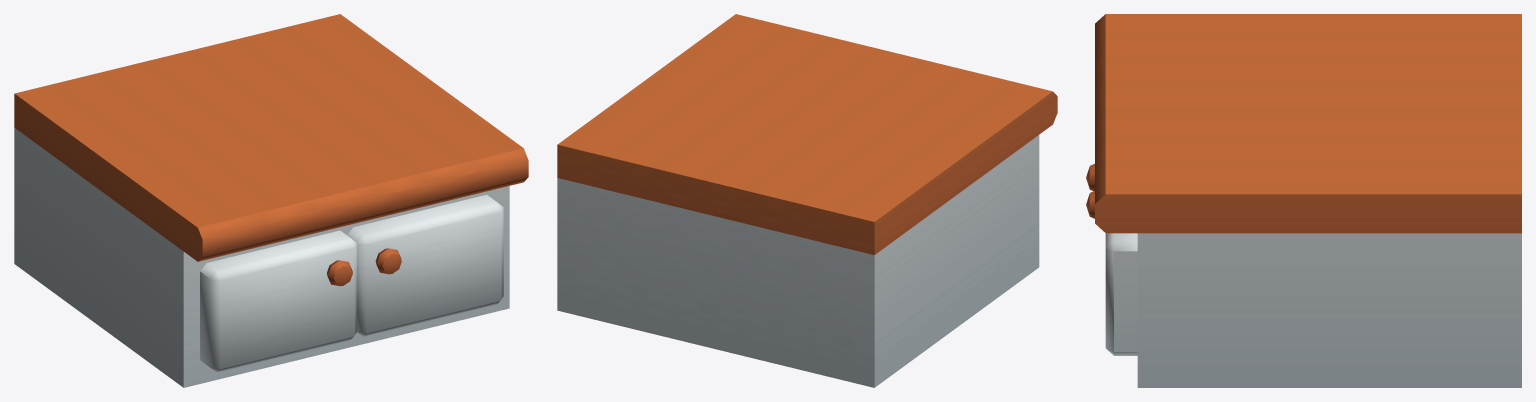
File: kitchencounter-straight-b.glb
3 views of the same model, side by side, from view 1: azimuth 30°, elevation 25°; view 2: azimuth 150°, elevation 25°; view 3: azimuth 270°, elevation 25° (orthographic). The views are drawn at different scales.
Visible parts, largest first — view 1: kitchencounter_straight_B; view 2: kitchencounter_straight_B; view 3: kitchencounter_straight_B.
Boxes of the visible parts, bbox=[...] form: kitchencounter_straight_B: bbox=[14, 14, 528, 387]; kitchencounter_straight_B: bbox=[557, 14, 1057, 387]; kitchencounter_straight_B: bbox=[1086, 14, 1521, 387].
Size of the model in its own units: 2 by 1 by 2.04.
1 material, 1 textured.
